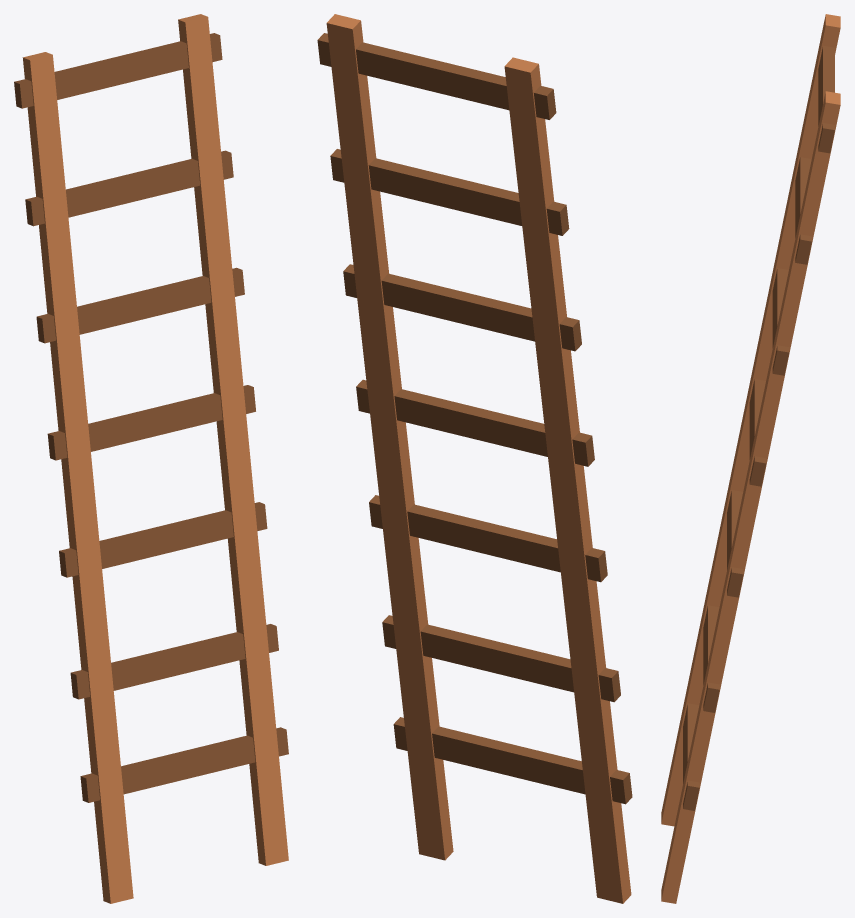
The model's file is ladder.fbx.
The picture shows the model from 3 angles, left to right: view 1: azimuth 30°, elevation 25°; view 2: azimuth 150°, elevation 25°; view 3: azimuth 270°, elevation 25°; orthographic projection. The views are drawn at different scales.
Visible parts, largest first — view 1: ladder; view 2: ladder; view 3: ladder.
Part boxes in pixels (x1,y1,x2,y2): ladder: [14, 14, 288, 903]; ladder: [317, 14, 632, 903]; ladder: [661, 14, 840, 903].
Bounding box in the file's own units: 85.24 × 320 × 64.89.
1 material, 1 textured.
